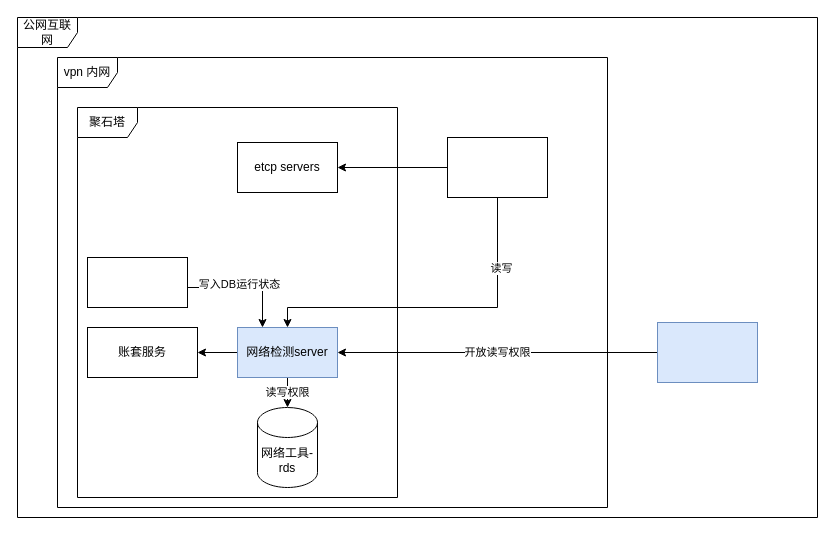
This 835x535 diagram has some shape labels left out. Each missing label, with the box of its shape:
DB监测服务工具: (86, 256, 188, 308)
etcp browser: (446, 136, 548, 198)
客户端检测工具.exe: (656, 322, 758, 382)
